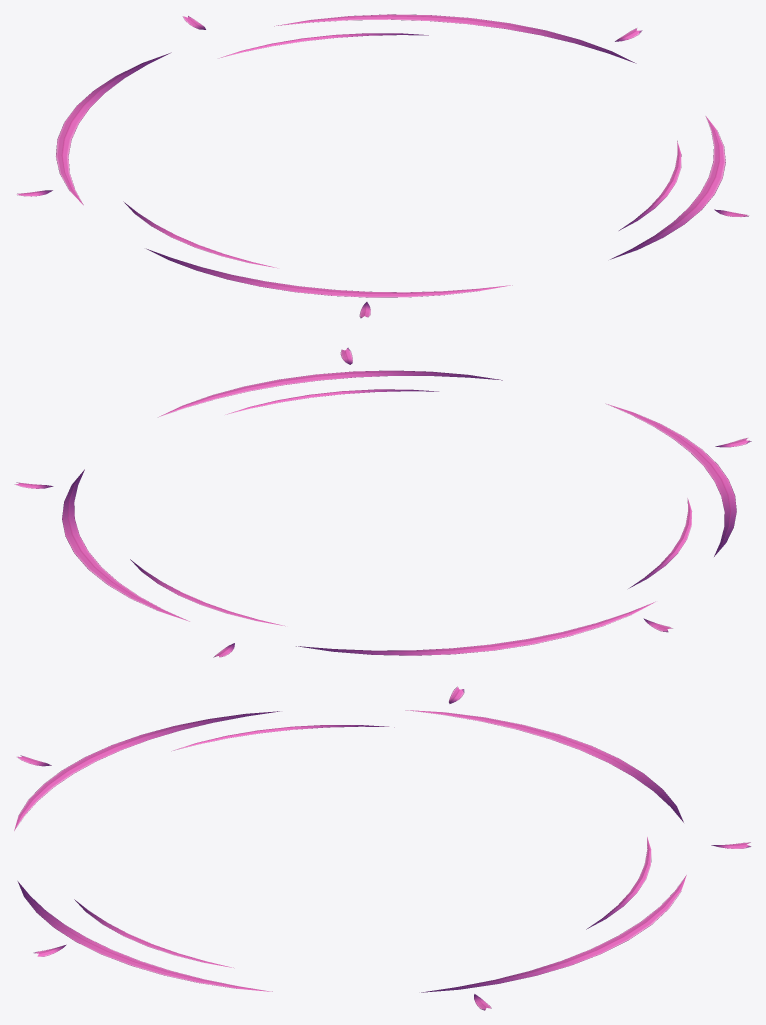
Rendered from senbon_selo.fbx.
3 renders of one model, top to bottom at view 1: azimuth 30°, elevation 25°; view 2: azimuth 150°, elevation 25°; view 3: azimuth 270°, elevation 25°, orthographic. The views are drawn at different scales.
Visible parts, largest first — view 1: senbon_selo; view 2: senbon_selo; view 3: senbon_selo.
Boxes of the visible parts, x1,y1,x2,y2 form: senbon_selo: [16, 14, 749, 318]; senbon_selo: [14, 347, 751, 657]; senbon_selo: [14, 686, 751, 1010].
Size of the model in its own units: 6.97 by 0.034 by 6.72.
1 material, 1 textured.
